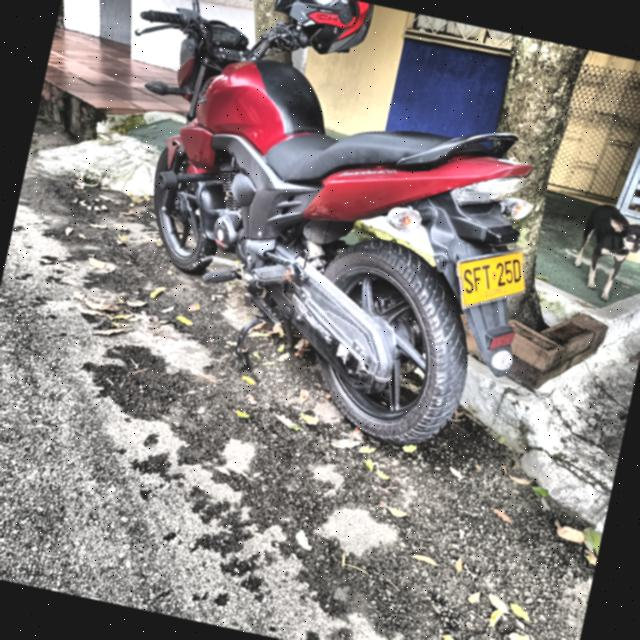2: (495, 261, 506, 288)
5: (503, 259, 514, 285)
D: (511, 258, 521, 285)
F: (471, 265, 484, 293)
S: (462, 267, 474, 297)
T: (480, 263, 492, 291)
